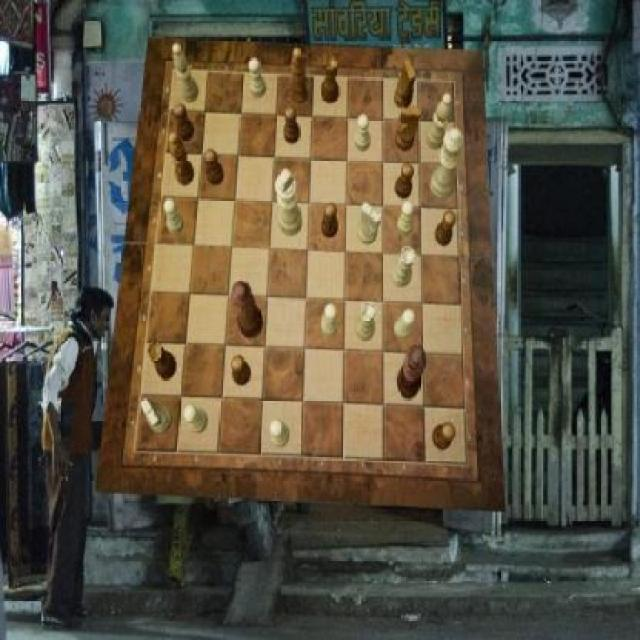bishop: (169, 132, 194, 186), (290, 46, 308, 104)
black-bishop: (397, 345, 427, 399)
black-king: (396, 106, 422, 152), (394, 60, 416, 111)
black-knight: (174, 103, 194, 142), (436, 210, 456, 246), (204, 150, 224, 186), (396, 163, 416, 199), (434, 423, 457, 451), (284, 106, 300, 145), (231, 356, 251, 386), (322, 202, 338, 238)
black-pawn: (231, 280, 263, 338)
black-queen: (148, 342, 177, 380), (322, 57, 341, 105)
black-rook: (172, 43, 200, 102), (426, 94, 452, 148)
white-bishop: (276, 169, 302, 237)
white-king: (141, 398, 174, 434), (358, 201, 382, 244)
white-knight: (184, 404, 208, 434), (164, 198, 184, 234), (249, 58, 267, 98), (320, 303, 338, 338), (394, 309, 414, 340), (397, 200, 414, 236), (356, 114, 372, 151), (271, 420, 291, 448)
white-pawn: (431, 128, 466, 200)
white-queen: (392, 246, 417, 288), (356, 303, 376, 343)
